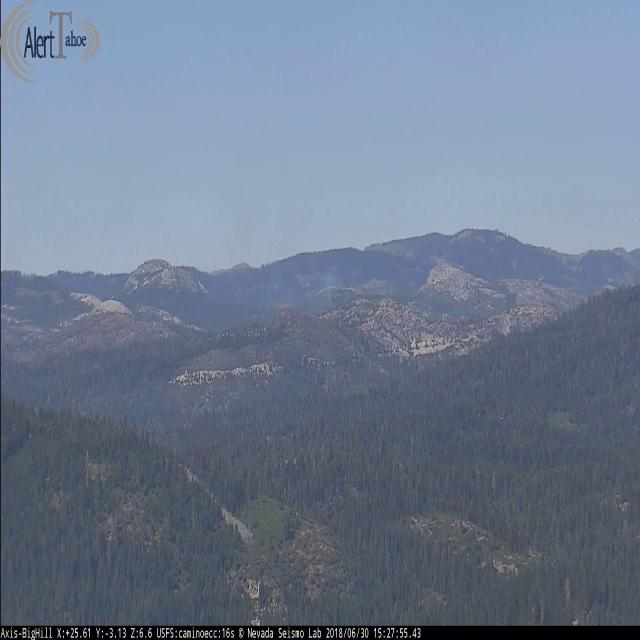smoke: (270, 266, 343, 314)
